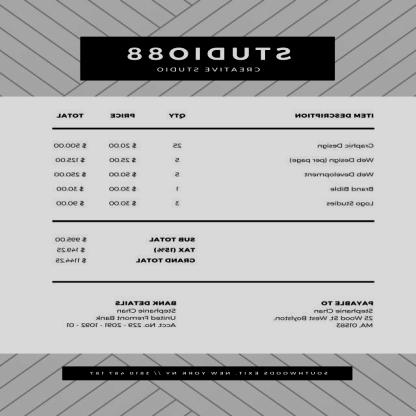Paragraph: (124, 44, 296, 74), (51, 234, 200, 266), (64, 297, 180, 331), (272, 297, 376, 330), (87, 368, 331, 378)
Table: (50, 107, 378, 212)
